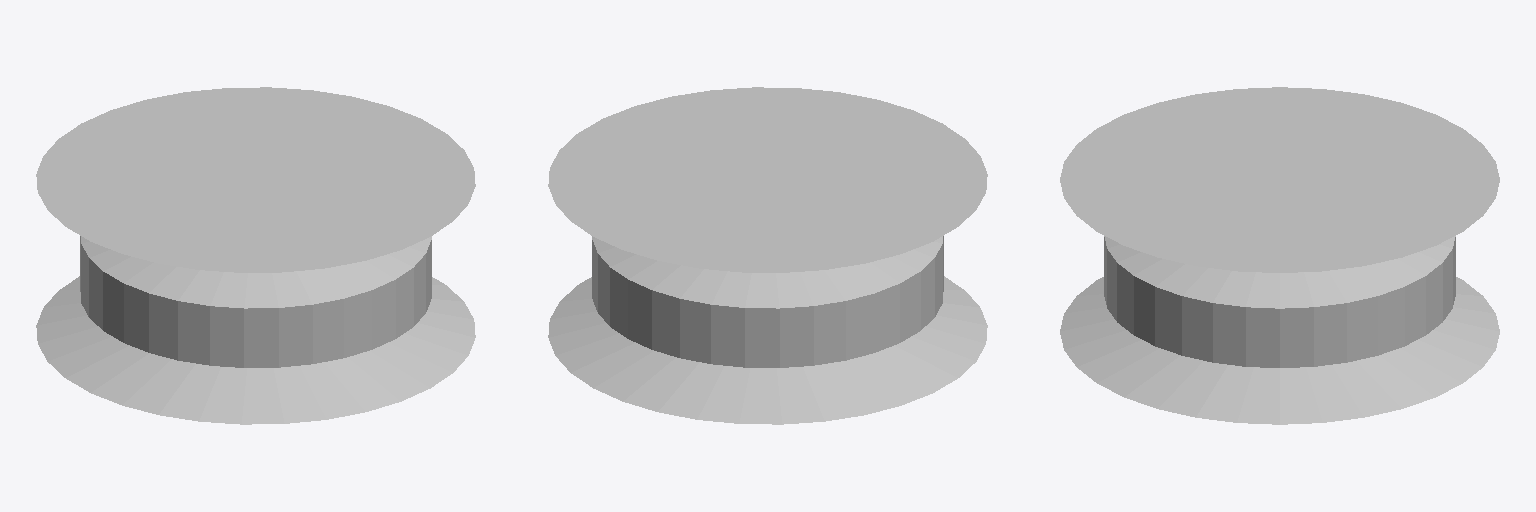
Rendered from teleport.obj.
The picture shows the model from 3 angles: view 1: azimuth 30°, elevation 25°; view 2: azimuth 150°, elevation 25°; view 3: azimuth 270°, elevation 25°; orthographic projection.
Parts seen in each view (by area): view 1: Cylinder_Cylinder.001; view 2: Cylinder_Cylinder.001; view 3: Cylinder_Cylinder.001.
Boxes of the visible parts, x1,y1,x2,y2 form: Cylinder_Cylinder.001: [36, 87, 475, 424]; Cylinder_Cylinder.001: [548, 87, 987, 424]; Cylinder_Cylinder.001: [1060, 87, 1499, 424].
Size of the model in its own units: 2 by 0.7597 by 2.